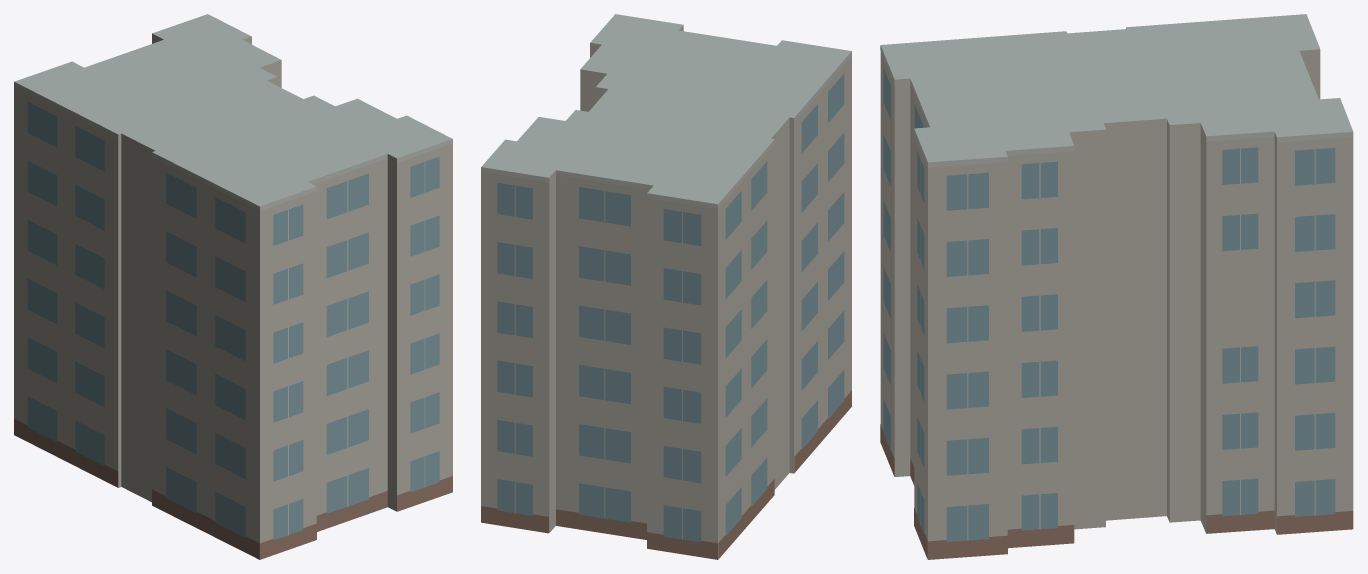
File: survey-upis-32983062.glb
3 views of the same model, side by side, from view 1: azimuth 30°, elevation 25°; view 2: azimuth 150°, elevation 25°; view 3: azimuth 270°, elevation 25° (orthographic). The views are drawn at different scales.
Parts seen in each view (by area): view 1: survey-upis-32983062.tmp; view 2: survey-upis-32983062.tmp; view 3: survey-upis-32983062.tmp.
Boxes of the visible parts, x1,y1,x2,y2 form: survey-upis-32983062.tmp: [14, 14, 452, 559]; survey-upis-32983062.tmp: [481, 14, 851, 559]; survey-upis-32983062.tmp: [880, 14, 1353, 559].
Size of the model in its own units: 14.66 by 18.3 by 19.74.
